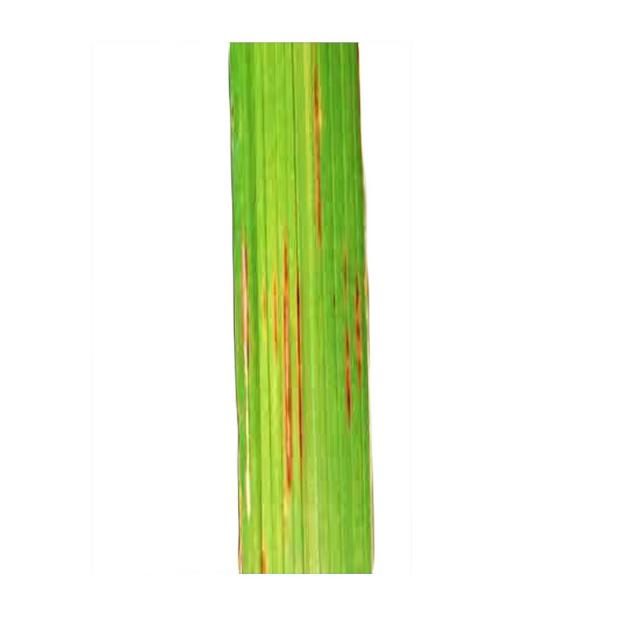Narrow brown: (188, 18, 448, 591)
